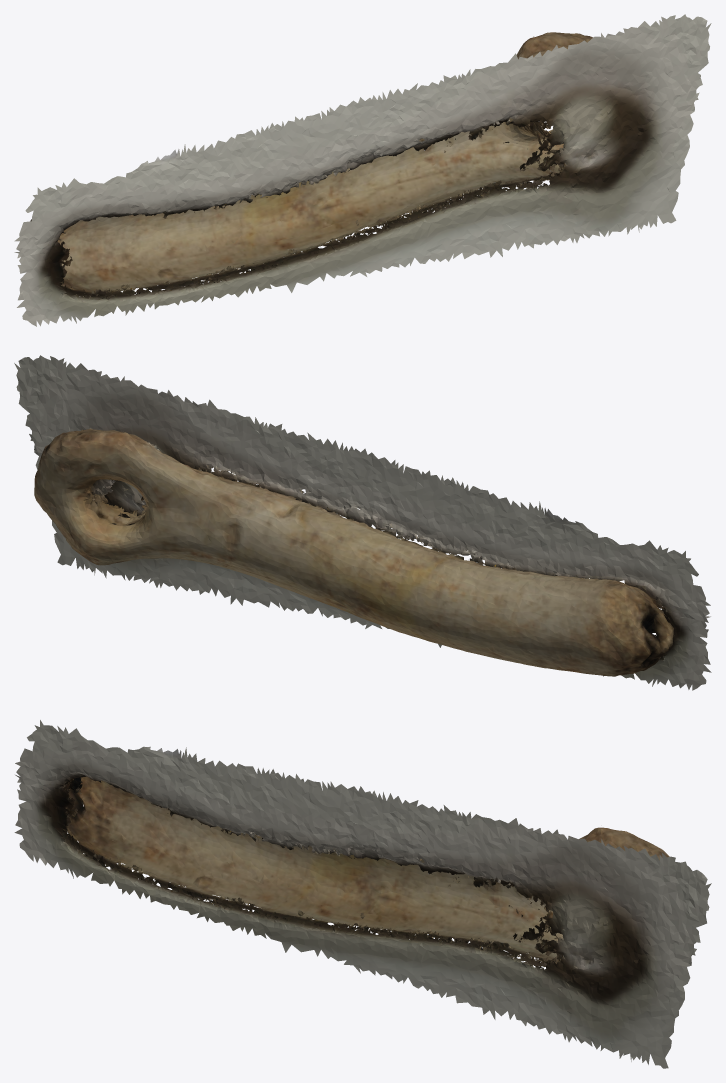
File: lochstab_smaller.obj
3 views of the same model, one above another, from view 1: azimuth 30°, elevation 25°; view 2: azimuth 150°, elevation 25°; view 3: azimuth 330°, elevation 25° (orthographic). The views are drawn at different scales.
Parts seen in each view (by area): view 1: stick_1_low; view 2: stick_1_low; view 3: stick_1_low.
Boxes of the visible parts, <box> form: stick_1_low: <box>14,14,711,326</box>; stick_1_low: <box>14,355,711,690</box>; stick_1_low: <box>14,720,711,1068</box>.
Bounding box in the file's own units: 3.88 × 1.12 × 0.4915.
1 material, 1 textured.
